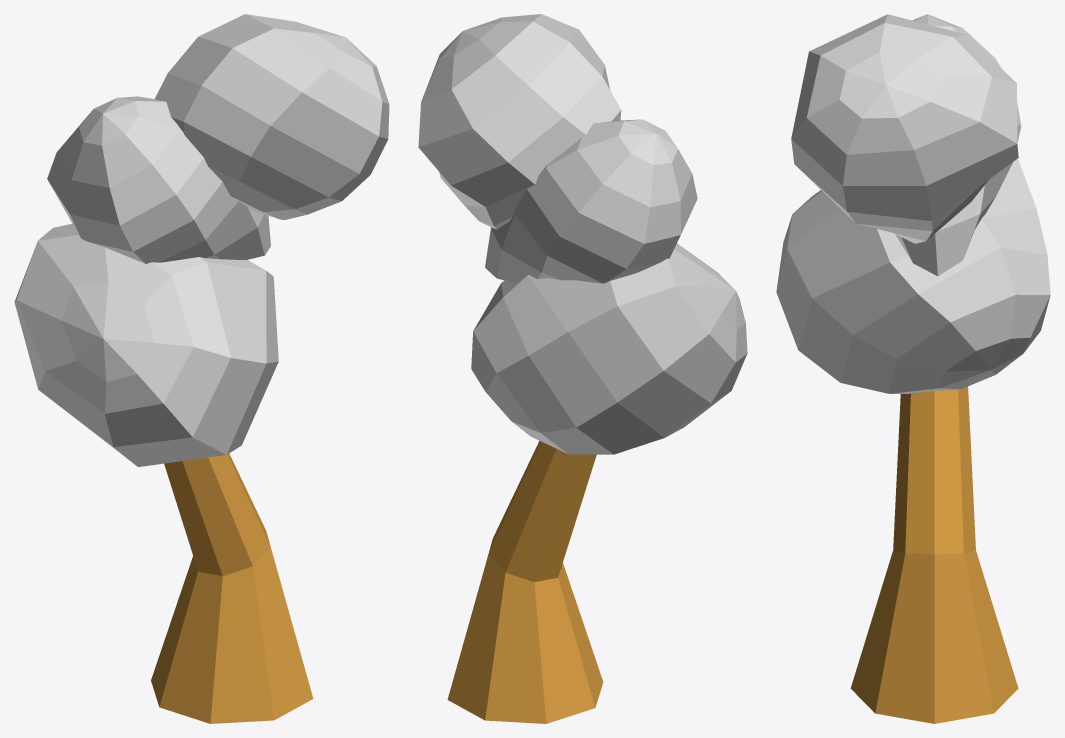
The model's file is Tree.fbx.
The picture shows the model from 3 angles, left to right: view 1: azimuth 30°, elevation 25°; view 2: azimuth 150°, elevation 25°; view 3: azimuth 270°, elevation 25°; orthographic projection. The views are drawn at different scales.
Visible parts, largest first — view 1: Tree; view 2: Tree; view 3: Tree.
Boxes of the visible parts, bbox=[...] form: Tree: bbox=[14, 14, 389, 723]; Tree: bbox=[418, 14, 747, 723]; Tree: bbox=[776, 14, 1050, 723].
Size of the model in its own units: 198 by 404 by 149.
